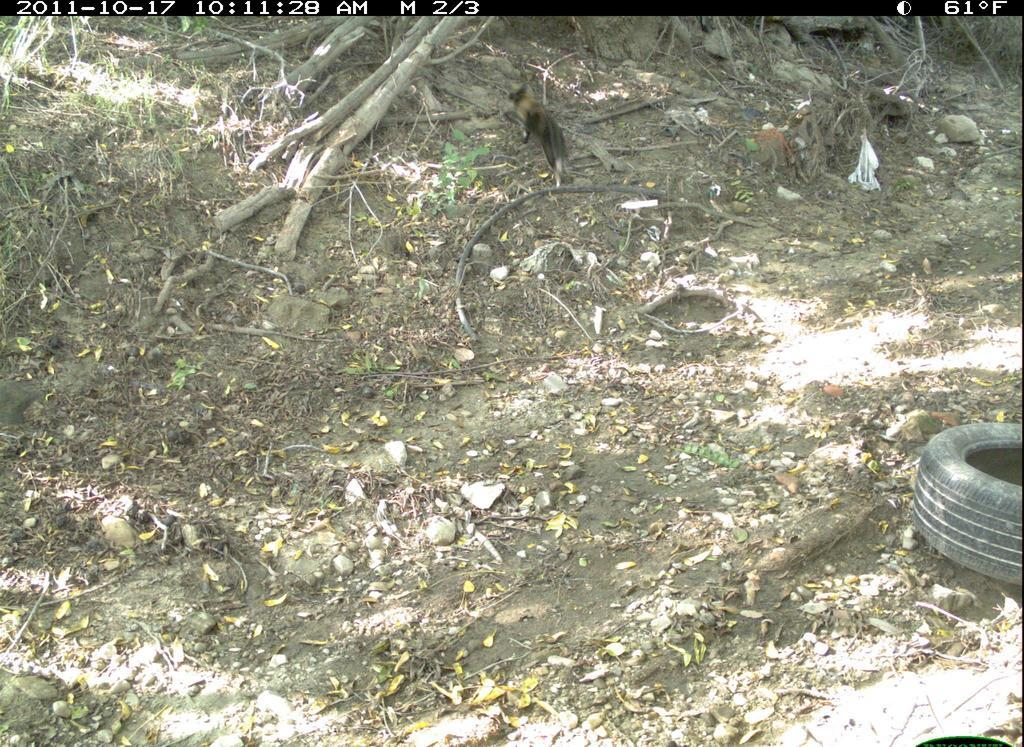cat: (501, 77, 575, 199)
